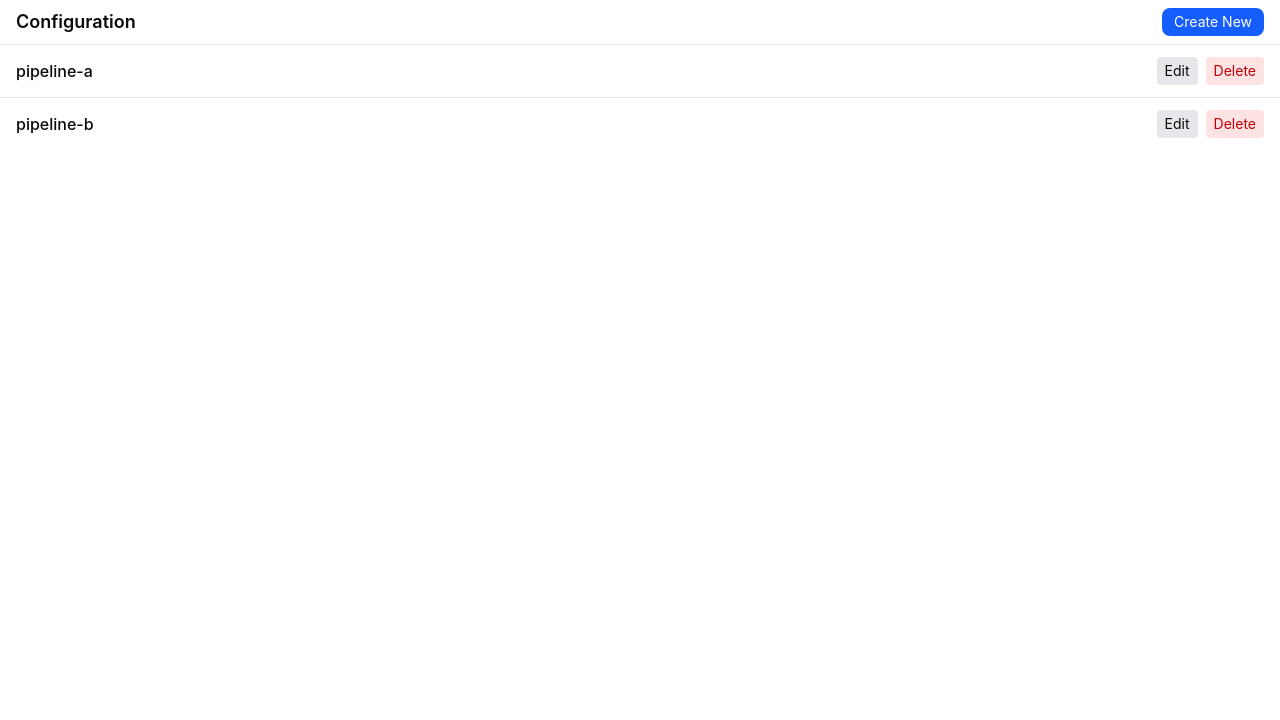
Scenario: ConfigPanel › shows config form when create is clicked
Click the button with test id "config-create".
click(1213, 22)  # box x1=1162 y1=8 x2=1264 y2=36
(page scrolled)
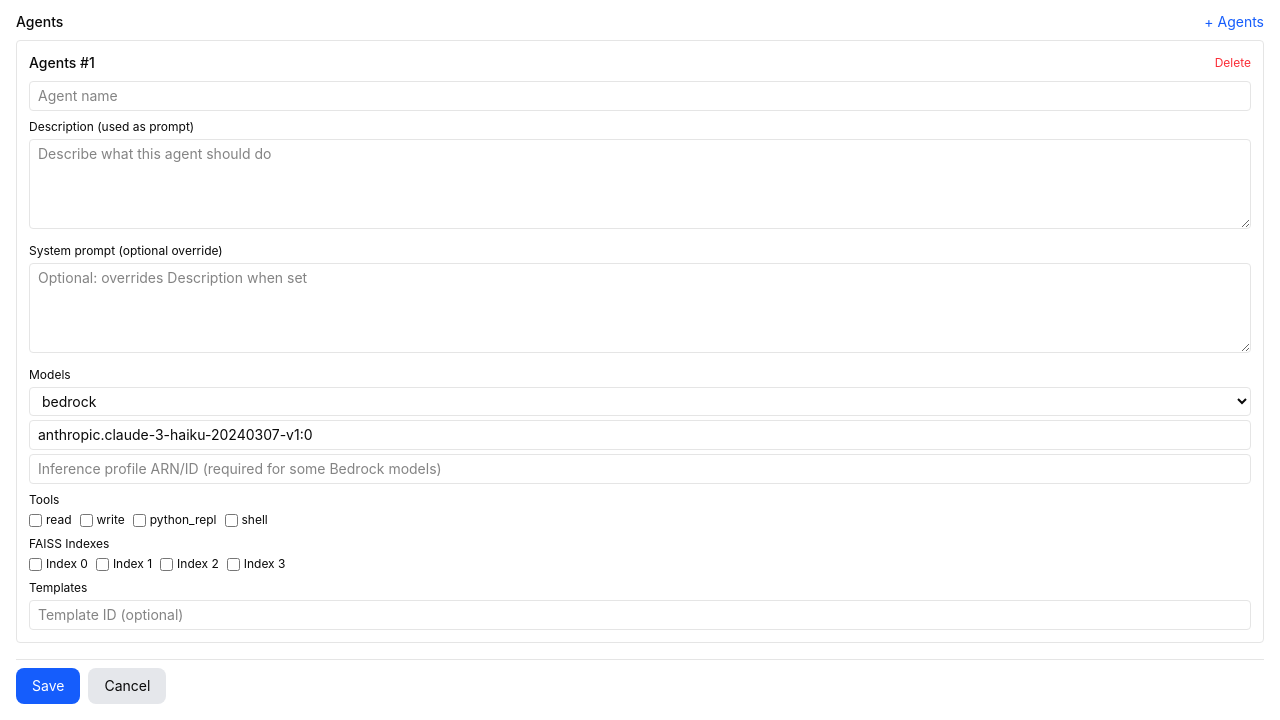
Result: the button with test id "config-save" is shown at x1=16 y1=668 x2=80 y2=704
Result: the button with test id "config-cancel" is shown at x1=88 y1=668 x2=166 y2=704
